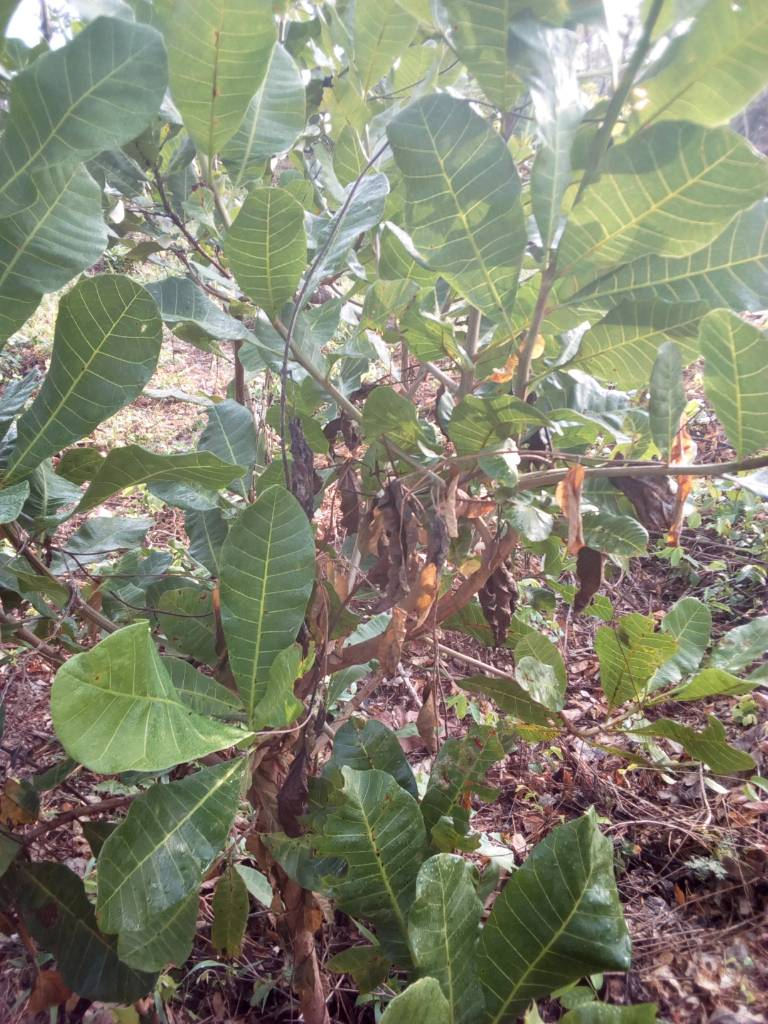Anthracnose: (52, 622, 243, 774), (325, 769, 413, 935)
